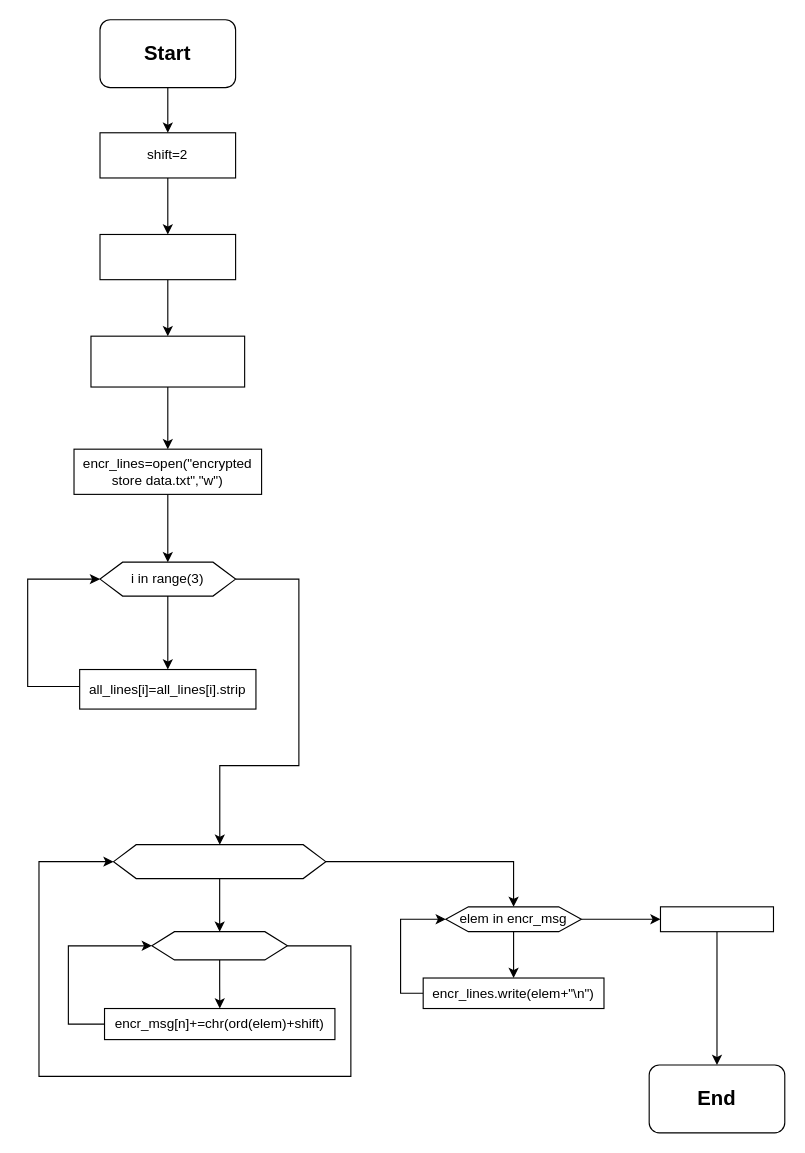
Some shapes in this 805 by 1153 pixel diagram are drawn without their labels. Here are the shapes that lost their labels. From the top down, the centre of each, then its label:
(x=167, y=256): encr_msg=["","",""]
(x=167, y=361): all_lines=open("store data.txt","r").readlines()
(x=219, y=861): n,line in enumerate(all_lines)
(x=716, y=919): encr_lines.close()
(x=219, y=945): elem in line
